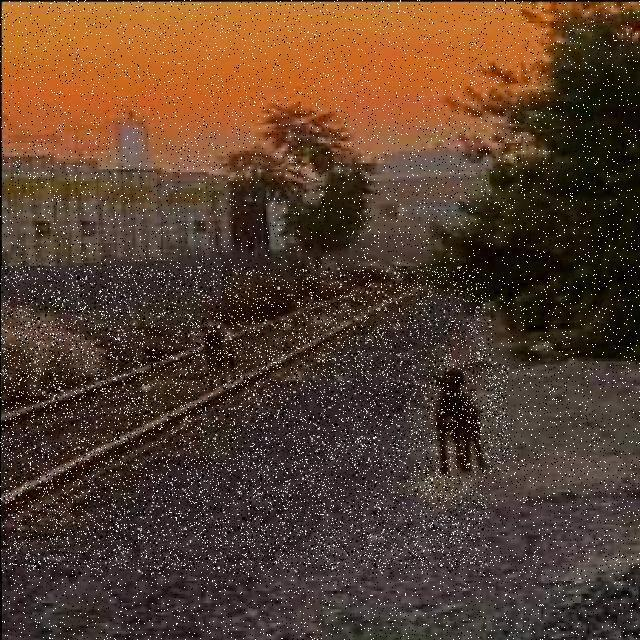rail: (2, 268, 488, 572)
